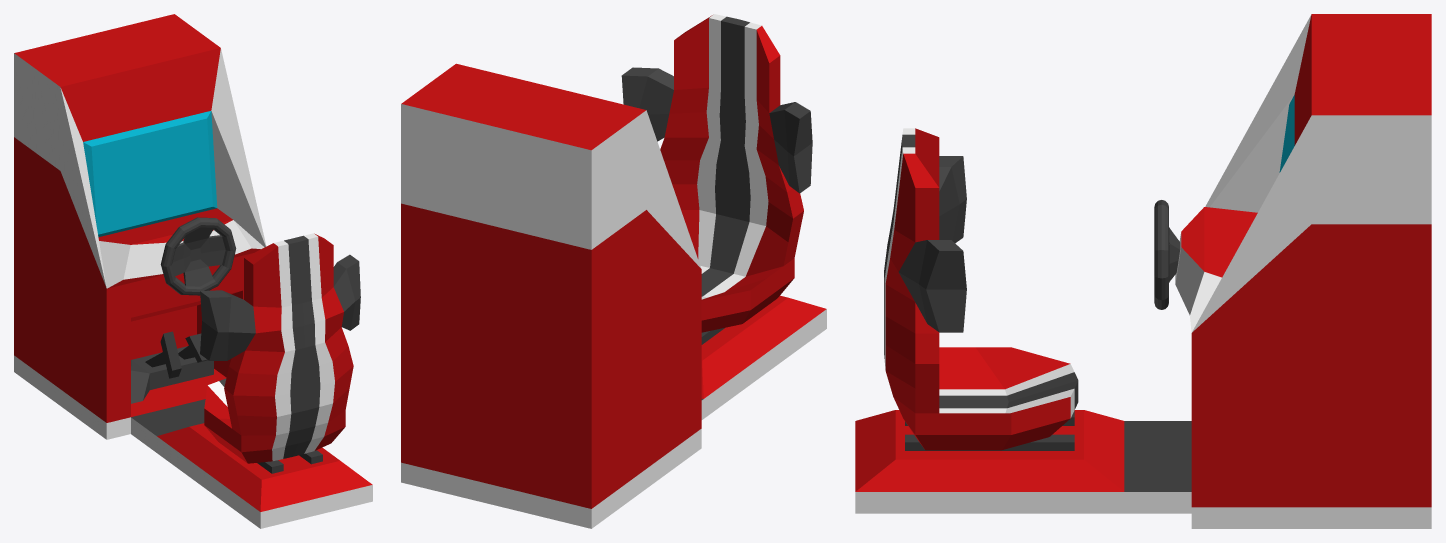
Rendered from Race Car Machine.fbx.
The picture shows the model from 3 angles, left to right: view 1: azimuth 30°, elevation 25°; view 2: azimuth 150°, elevation 25°; view 3: azimuth 270°, elevation 25°; orthographic projection. The views are drawn at different scales.
Parts seen in each view (by area): view 1: Race Car Machine, Racing Seat, Wheel, Accelerator, Brake Pedal; view 2: Race Car Machine, Racing Seat; view 3: Race Car Machine, Racing Seat, Wheel.
Part boxes in pixels (bbox=[...]): Race Car Machine: bbox=[14, 14, 372, 528]; Racing Seat: bbox=[200, 233, 360, 463]; Wheel: bbox=[160, 217, 236, 295]; Accelerator: bbox=[145, 331, 181, 378]; Brake Pedal: bbox=[178, 333, 207, 362]; Race Car Machine: bbox=[401, 63, 826, 528]; Racing Seat: bbox=[621, 14, 812, 332]; Race Car Machine: bbox=[855, 14, 1431, 528]; Racing Seat: bbox=[884, 128, 1078, 450]; Wheel: bbox=[1154, 200, 1180, 309].
Bounding box in the file's own units: 1000 × 1900 × 2400.
